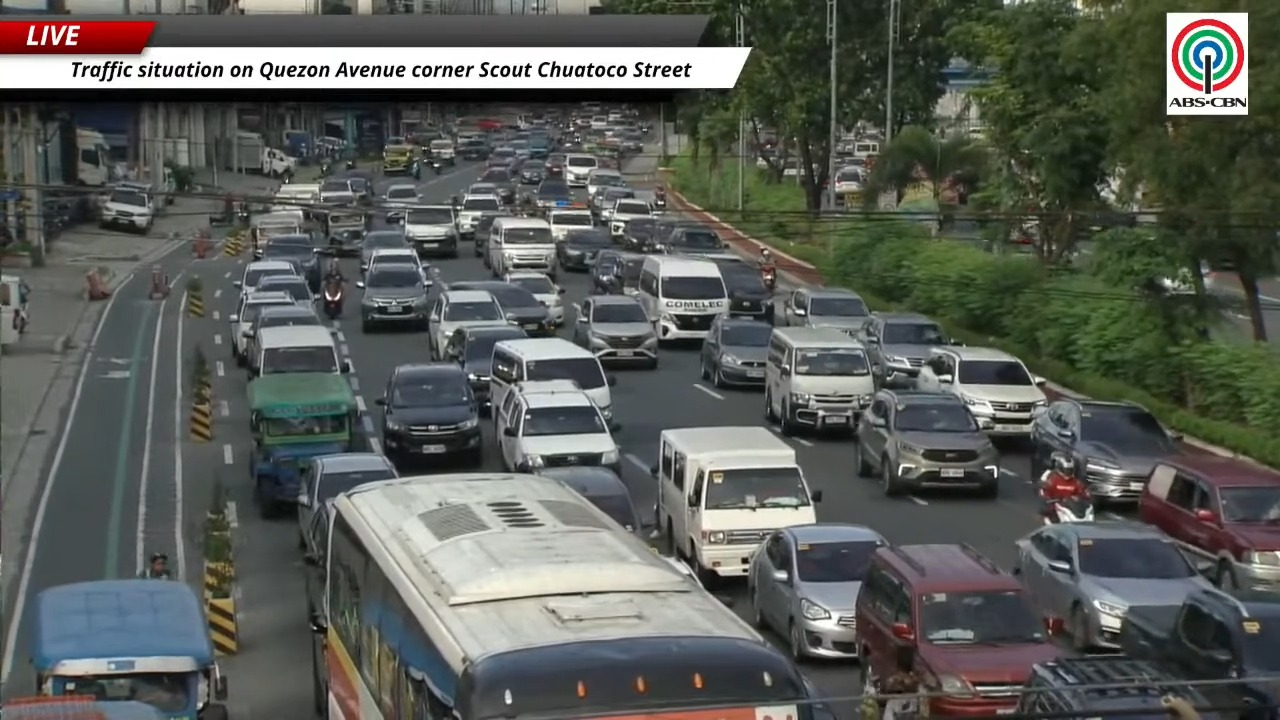bus: (311, 473, 812, 719)
car: (855, 544, 1061, 716), (1013, 521, 1211, 650), (747, 523, 887, 660), (1138, 454, 1279, 590), (1030, 397, 1179, 501), (855, 389, 998, 496), (1016, 655, 1214, 717), (915, 346, 1046, 437), (495, 380, 620, 472), (375, 362, 482, 466), (297, 452, 397, 552), (443, 324, 526, 412), (538, 466, 641, 533), (861, 312, 953, 383), (572, 295, 658, 368), (450, 280, 555, 336), (429, 289, 510, 359), (228, 289, 294, 366), (700, 315, 771, 386), (356, 263, 428, 331), (244, 303, 322, 364), (707, 255, 773, 323), (780, 287, 870, 330), (262, 234, 322, 292), (502, 271, 564, 326), (403, 205, 458, 257), (364, 247, 433, 286), (557, 224, 612, 271), (100, 186, 154, 233), (233, 260, 298, 296), (361, 228, 411, 272), (663, 223, 728, 255), (458, 191, 501, 238), (608, 198, 653, 238), (256, 275, 314, 306), (472, 212, 505, 266), (642, 213, 687, 251), (593, 187, 636, 226), (380, 183, 421, 222), (547, 208, 593, 242), (589, 249, 623, 294), (479, 164, 515, 204), (619, 216, 656, 252), (533, 179, 573, 211), (585, 168, 626, 195), (618, 253, 644, 295), (318, 177, 356, 205), (486, 144, 516, 167), (518, 160, 544, 184), (544, 152, 564, 178), (464, 182, 499, 195)
motorcycle: (1037, 458, 1094, 524), (1041, 497, 1094, 525), (323, 282, 345, 320), (759, 264, 776, 291), (654, 188, 666, 209), (319, 158, 331, 176), (430, 159, 441, 174)
truck: (1117, 588, 1279, 719), (228, 131, 296, 176), (75, 127, 112, 186), (228, 131, 266, 172), (283, 129, 314, 163)
